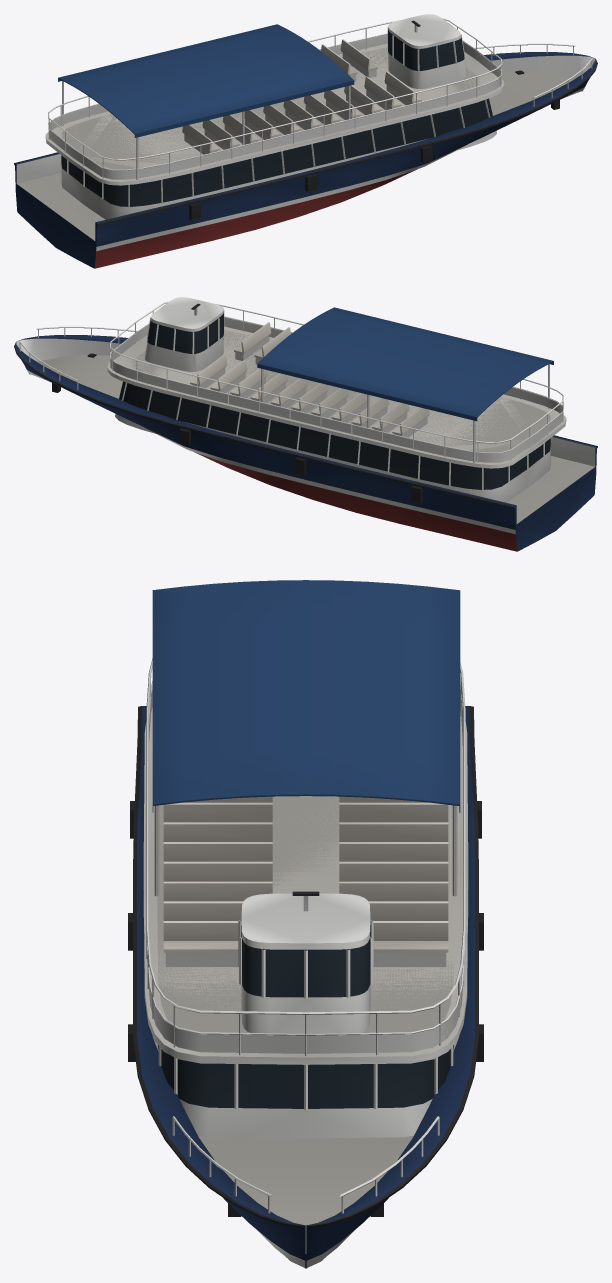
The model's file is tourboat.glb.
The picture shows the model from 3 angles, top to bottom: view 1: azimuth 30°, elevation 25°; view 2: azimuth 150°, elevation 25°; view 3: azimuth 270°, elevation 25°; orthographic projection. The views are drawn at different scales.
Visible parts, largest first — view 1: lod0; view 2: lod0; view 3: lod0.
Boxes of the visible parts, box(x1,y1,x2,y2) form: lod0: box(14, 14, 597, 268); lod0: box(14, 297, 597, 551); lod0: box(128, 580, 483, 1268).
Size of what is drawn, in the model's own units: 28 by 6.8 by 8.
